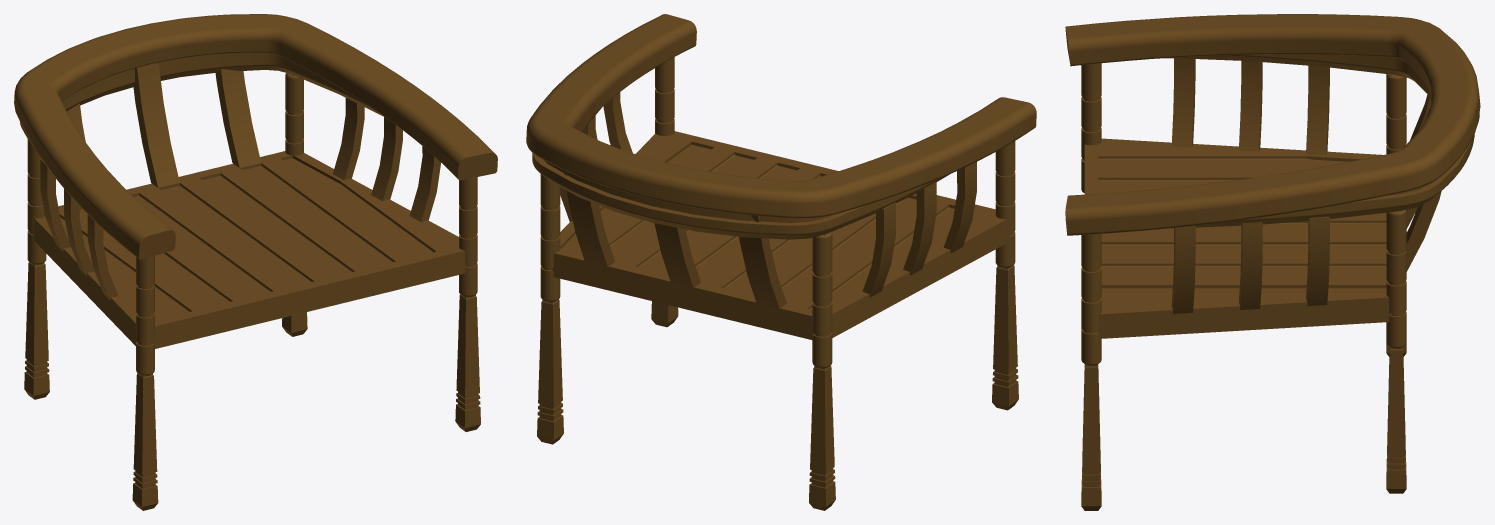
The model's file is chair.gltf.
The picture shows the model from 3 angles, left to right: view 1: azimuth 30°, elevation 25°; view 2: azimuth 150°, elevation 25°; view 3: azimuth 270°, elevation 25°; orthographic projection. The views are drawn at different scales.
Parts seen in each view (by area): view 1: Chair (100) Chair (100) [324355]_0; view 2: Chair (100) Chair (100) [324355]_0; view 3: Chair (100) Chair (100) [324355]_0.
Part boxes in pixels (box(x1,y1,x2,y2)): Chair (100) Chair (100) [324355]_0: box(14, 14, 497, 510); Chair (100) Chair (100) [324355]_0: box(526, 14, 1036, 510); Chair (100) Chair (100) [324355]_0: box(1065, 14, 1480, 510).
Size of the model in its own units: 0.6667 by 0.5488 by 0.6125.
